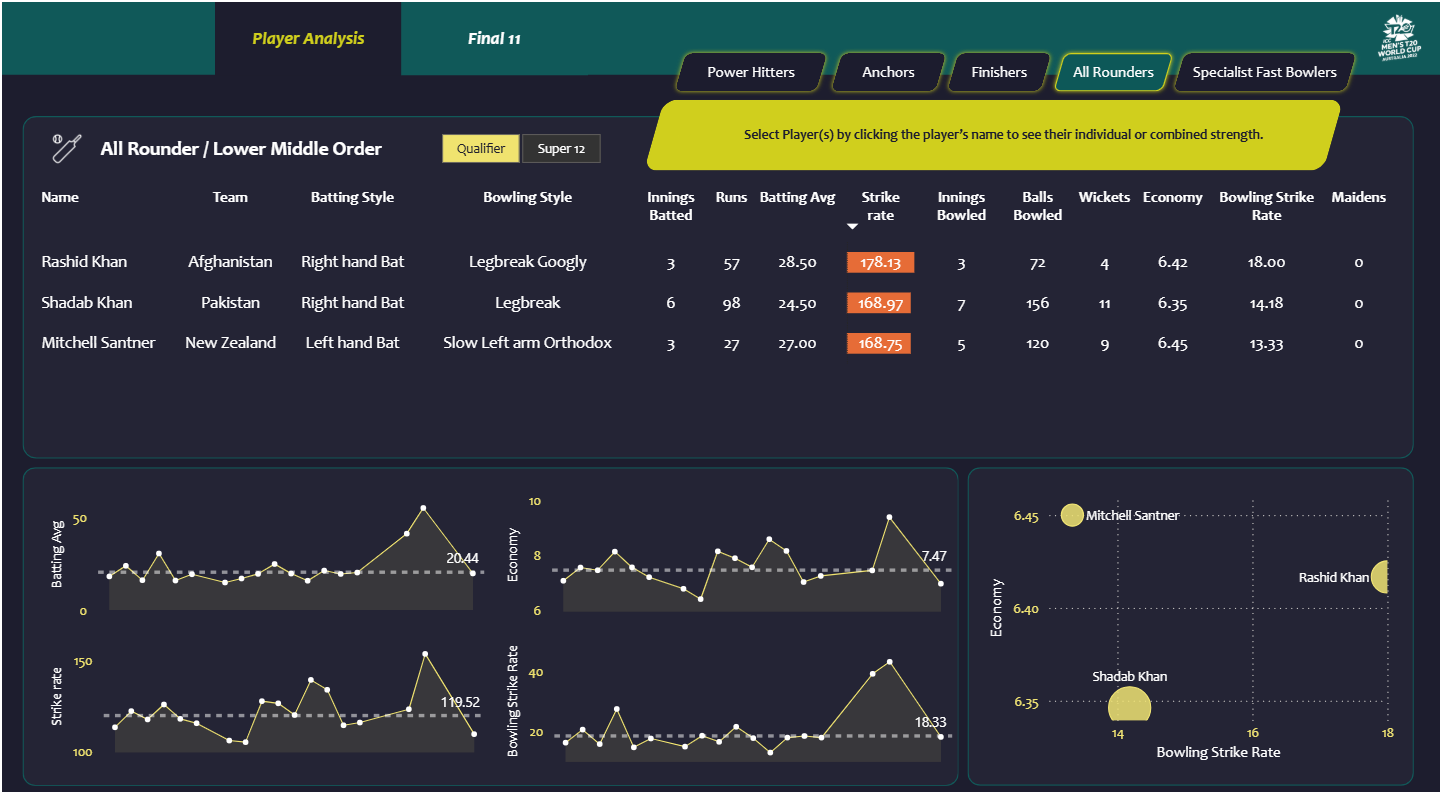

The page's visual inventory and layout, read from the dashboard file:
{"tool":"powerbi","page":{"name":"New All Rounders / Lower Middle Order","canvas":[1280,720],"ordinal":3},"visuals":[{"type":"shape","box":[0,66,1280,654],"z":0},{"type":"card","fields":{"Values":["Key_Measures.Strike rate"]},"box":[867,89,93,60],"z":0,"group":"g2"},{"type":"shape","box":[83.7,116.3,260,31.2],"z":0,"group":"g1"},{"type":"card","fields":{"Values":["Key_Measures.Bat Avg"]},"box":[768,89,92,60],"z":1000,"group":"g2"},{"type":"image","box":[37.5,113.8,44,36],"z":1000,"group":"g1"},{"type":"shape","box":[20,414.4,832.2,283.3],"z":1000},{"type":"actionButton","box":[734,42.6,111,42],"z":2000},{"type":"card","fields":{"Values":["Key_Measures.Bowling Strike Rate"]},"box":[1073,89,100,60],"z":2000,"group":"g2"},{"type":"actionButton","box":[596,42.6,144,42],"z":3000},{"type":"card","fields":{"Values":["Key_Measures.Economy"]},"box":[966,89,101,60],"z":3000,"group":"g2"},{"type":"actionButton","box":[838,42.6,101,42],"z":4000},{"type":"actionButton","box":[932,42.6,115,42],"z":5000},{"type":"actionButton","box":[1039,42.6,171,42],"z":6000},{"type":"image","box":[1220,3,48,59],"z":7000},{"type":"shape","box":[20,102.2,1236.7,304.4],"z":9000},{"type":"group","id":"g1","title":"Group 2","box":[37.5,113.8,306.2,35],"z":10000},{"type":"slicer","fields":{"Values":["dim_match_summary.stage"]},"box":[366.7,111.1,191.1,38.9],"z":11000},{"type":"tableEx","fields":{"Values":["dim_player.name","Min(dim_player.team)","Min(dim_player.Batting Style)","Min(dim_player.Bowling Style)","Key_Measures.Total Innings Batted","Key_Measures.Total Runs","Key_Measures.Bat Avg","Key_Measures.Strike rate","Key_Measures.Total Innings Bowled","Key_Measures.Balls Bowled","Key_Measures.wickets","Key_Measures.Economy"]},"box":[26,151,1231,255],"z":12000},{"type":"shape","box":[572,88,622,63],"z":13000},{"type":"shape","box":[591,103,173,34],"z":14000},{"type":"group","id":"g2","title":"Combined Perfoamce Metrices","box":[768,89,405,60],"z":15000},{"type":"scatterChart","fields":{"Category":["dim_player.name"],"X":["Key_Measures.Bowling Strike Rate"],"Y":["Key_Measures.Economy"],"Size":["Key_Measures.Total Runs"]},"box":[874.4,427,370,254],"z":16000},{"type":"actionButton","title":"Button Player Ana selected","box":[191,0,166,66],"z":17000},{"type":"actionButton","title":"Button Player Ana selected","box":[357,0,166,66],"z":18000},{"type":"shape","box":[612,100,560,36],"z":19000},{"type":"shape","box":[859.5,414.3,396.7,283.1],"z":20000},{"type":"areaChart","fields":{"Category":["dim_match_summary.Match_Date.Variation.Date Hierarchy.Day"],"Y":["Key_Measures.Economy"]},"box":[446,430,406,126],"z":21000},{"type":"areaChart","fields":{"Category":["dim_match_summary.Match_Date.Variation.Date Hierarchy.Day"],"Y":["Key_Measures.Bowling Strike Rate"]},"box":[446,556,406,126],"z":22000},{"type":"areaChart","fields":{"Category":["dim_match_summary.Match_Date.Variation.Date Hierarchy.Day"],"Y":["Key_Measures.Bat Avg"]},"box":[40,428.9,395.6,126.7],"z":23000},{"type":"areaChart","fields":{"Category":["dim_match_summary.Match_Date.Variation.Date Hierarchy.Day"],"Y":["Key_Measures.Strike rate"]},"box":[40,555.6,396.7,125.6],"z":24000}]}

Visuals, with their boxes in screenshot pixels (x1, y1, x2, y2), scaled from the page's 1280x720 canvas onto the 1442x794 screenshot:
shape: box=[0, 73, 1441, 793]
card - Key_Measures.Strike rate: box=[977, 98, 1082, 164]
shape: box=[94, 128, 387, 163]
card - Key_Measures.Bat Avg: box=[865, 98, 969, 164]
image: box=[42, 125, 92, 165]
shape: box=[23, 457, 960, 769]
actionButton: box=[827, 47, 952, 93]
card - Key_Measures.Bowling Strike Rate: box=[1209, 98, 1321, 164]
actionButton: box=[671, 47, 834, 93]
card - Key_Measures.Economy: box=[1088, 98, 1202, 164]
actionButton: box=[944, 47, 1058, 93]
actionButton: box=[1050, 47, 1180, 93]
actionButton: box=[1170, 47, 1363, 93]
image: box=[1374, 3, 1428, 68]
shape: box=[23, 113, 1416, 448]
"Group 2" group: box=[42, 125, 387, 164]
slicer - dim_match_summary.stage: box=[413, 123, 628, 165]
tableEx - dim_player.name x Min(dim_player.team): box=[29, 167, 1416, 448]
shape: box=[644, 97, 1345, 167]
shape: box=[666, 114, 861, 151]
"Combined Perfoamce Metrices" group: box=[865, 98, 1321, 164]
scatterChart - dim_player.name x Key_Measures.Bowling Strike Rate: box=[985, 471, 1402, 751]
"Button Player Ana selected" actionButton: box=[215, 0, 402, 73]
"Button Player Ana selected" actionButton: box=[402, 0, 589, 73]
shape: box=[689, 110, 1320, 150]
shape: box=[968, 457, 1415, 769]
areaChart - dim_match_summary.Match_Date.Variation.Date Hierarchy.Day x Key_Measures.Economy: box=[502, 474, 960, 613]
areaChart - dim_match_summary.Match_Date.Variation.Date Hierarchy.Day x Key_Measures.Bowling Strike Rate: box=[502, 613, 960, 752]
areaChart - dim_match_summary.Match_Date.Variation.Date Hierarchy.Day x Key_Measures.Bat Avg: box=[45, 473, 491, 613]
areaChart - dim_match_summary.Match_Date.Variation.Date Hierarchy.Day x Key_Measures.Strike rate: box=[45, 613, 492, 751]
